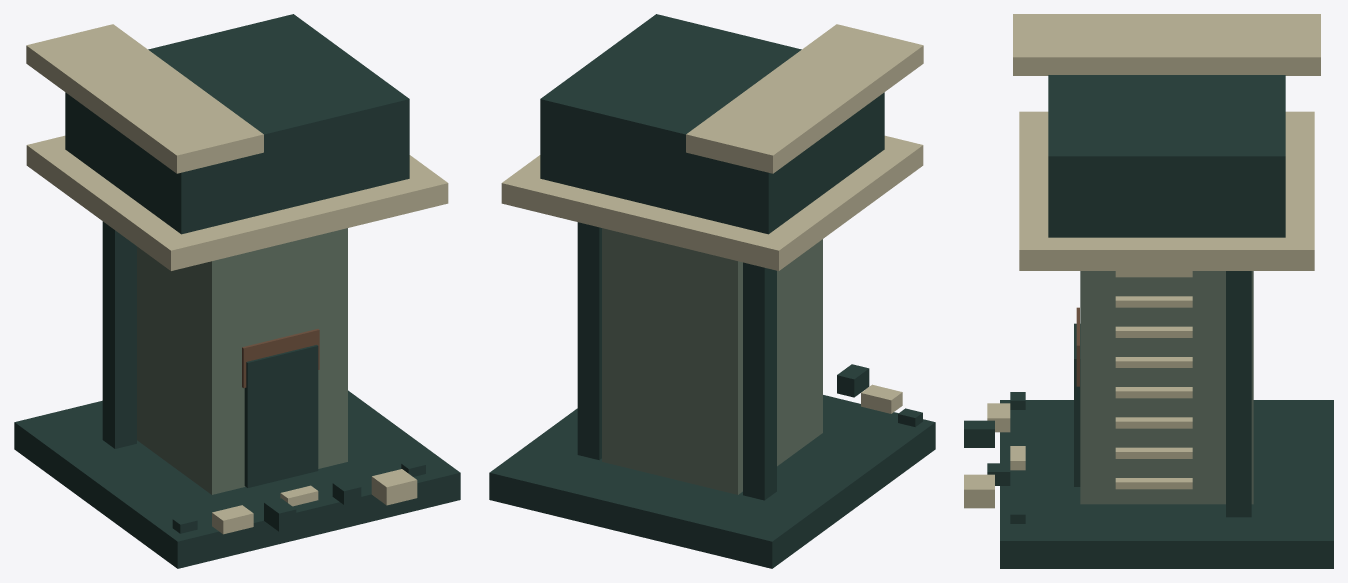
Rendered from tower-breached.glb.
The picture shows the model from 3 angles, left to right: view 1: azimuth 30°, elevation 25°; view 2: azimuth 150°, elevation 25°; view 3: azimuth 270°, elevation 25°; orthographic projection. The views are drawn at different scales.
Visible parts, largest first — view 1: tower-breached; view 2: tower-breached; view 3: tower-breached.
Boxes of the visible parts, x1=… form: tower-breached: x1=14, y1=14, x2=460, y2=568; tower-breached: x1=489, y1=14, x2=935, y2=568; tower-breached: x1=964, y1=14, x2=1333, y2=568.
Bounding box in the file's own units: 2.6 × 3.58 × 2.88.
